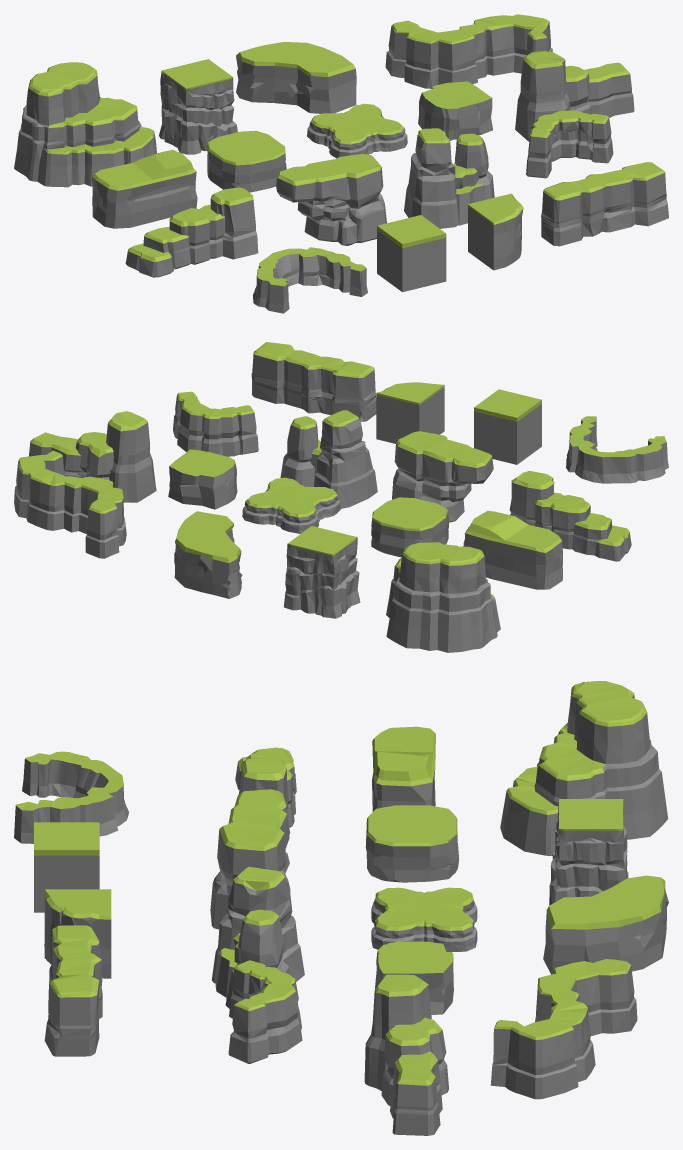
The model's file is Map2_Env_Updated.fbx.
3 views of the same model, one above another, from view 1: azimuth 30°, elevation 25°; view 2: azimuth 150°, elevation 25°; view 3: azimuth 270°, elevation 25° (orthographic). The views are drawn at different scales.
Parts seen in each view (by area): view 1: Cliff_7, Cliff_9, Cliff_11, Cliff_14, Cliff_17, Cliff_12, Cliff_13, Cliff_3, Cliff_6, Cliff_8, Cliff_10, Cliff_2 (+5 smaller); view 2: Cliff_7, Cliff_9, Cliff_11, Cliff_13, Cliff_6, Cliff_14, Cliff_8, Cliff_12, Cliff_3, Cliff_17, Cliff_2, Cliff_10 (+5 smaller); view 3: Cliff_7, Cliff_9, Cliff_6, Cliff_17, Cliff_13, Cliff_10, Cliff_8, Cliff_4, Cliff_11, Cliff_14, Cliff_16, Cliff_15 (+5 smaller).
Part boxes in pixels (x1,y1,x2,y2): Cliff_7: (14,62,156,187); Cliff_9: (385,14,552,88); Cliff_11: (541,162,668,246); Cliff_14: (276,154,386,245); Cliff_17: (236,42,356,113); Cliff_12: (125,187,258,277); Cliff_13: (404,128,494,228); Cliff_3: (92,150,197,228); Cliff_6: (515,51,634,141); Cliff_8: (159,59,237,154); Cliff_10: (253,247,367,313); Cliff_2: (377,215,446,292); Cliff_7: (386,542,500,652); Cliff_9: (14,450,126,558); Cliff_11: (251,342,376,421); Cliff_13: (280,410,377,508); Cliff_6: (28,411,156,502); Cliff_14: (392,431,493,522); Cliff_8: (284,526,360,618); Cliff_12: (509,470,631,561); Cliff_3: (463,510,562,589); Cliff_17: (174,511,242,598); Cliff_2: (474,389,541,464); Cliff_10: (566,416,668,483); Cliff_7: (500,681,668,855); Cliff_9: (490,959,637,1099); Cliff_6: (364,974,448,1135); Cliff_17: (543,875,668,974); Cliff_13: (211,867,304,1008); Cliff_10: (14,751,128,843); Cliff_8: (549,799,628,905); Cliff_4: (365,805,458,882); Cliff_11: (44,925,102,1056); Cliff_14: (210,789,292,929); Cliff_16: (228,960,302,1063); Cliff_15: (371,887,477,952).
Size of the model in its own units: 6462 by 1114 by 5117.
